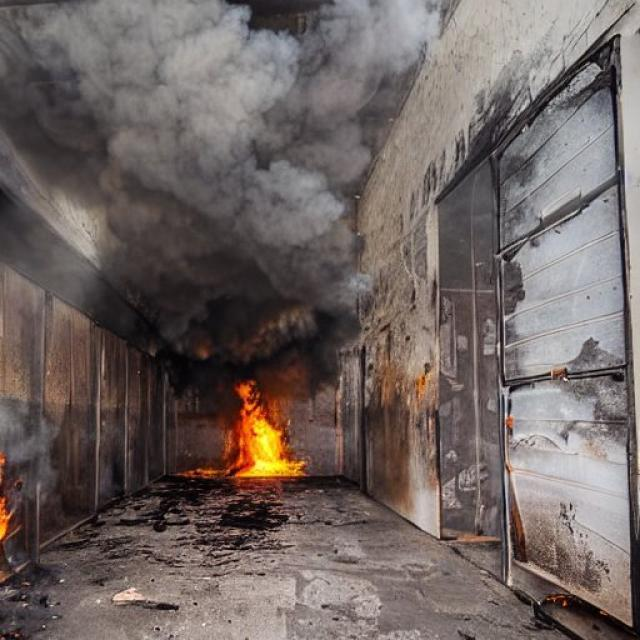Fire: (198, 376, 308, 488), (0, 488, 14, 540)
Smoke: (0, 5, 436, 372)
